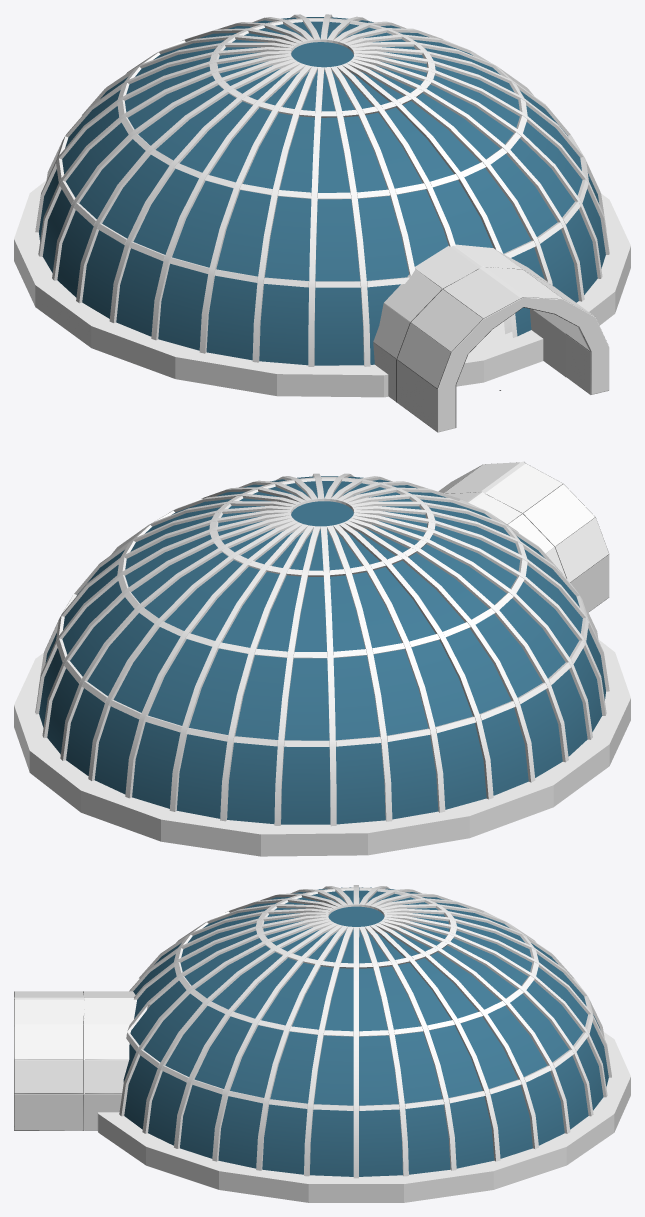
File: iglu.obj
3 views of the same model, one above another, from view 1: azimuth 30°, elevation 25°; view 2: azimuth 150°, elevation 25°; view 3: azimuth 270°, elevation 25° (orthographic). The views are drawn at different scales.
Visible parts, largest first — view 1: iglu_Fachada_Mesh; view 2: iglu_Fachada_Mesh; view 3: iglu_Fachada_Mesh.
Part boxes in pixels (x1,y1,x2,y2): iglu_Fachada_Mesh: (14, 14, 630, 432); iglu_Fachada_Mesh: (14, 461, 630, 856); iglu_Fachada_Mesh: (14, 885, 630, 1202).
Bounding box in the file's own units: 24.42 × 9.5 × 29.59.
Materials: 6 (6 with a texture image).
